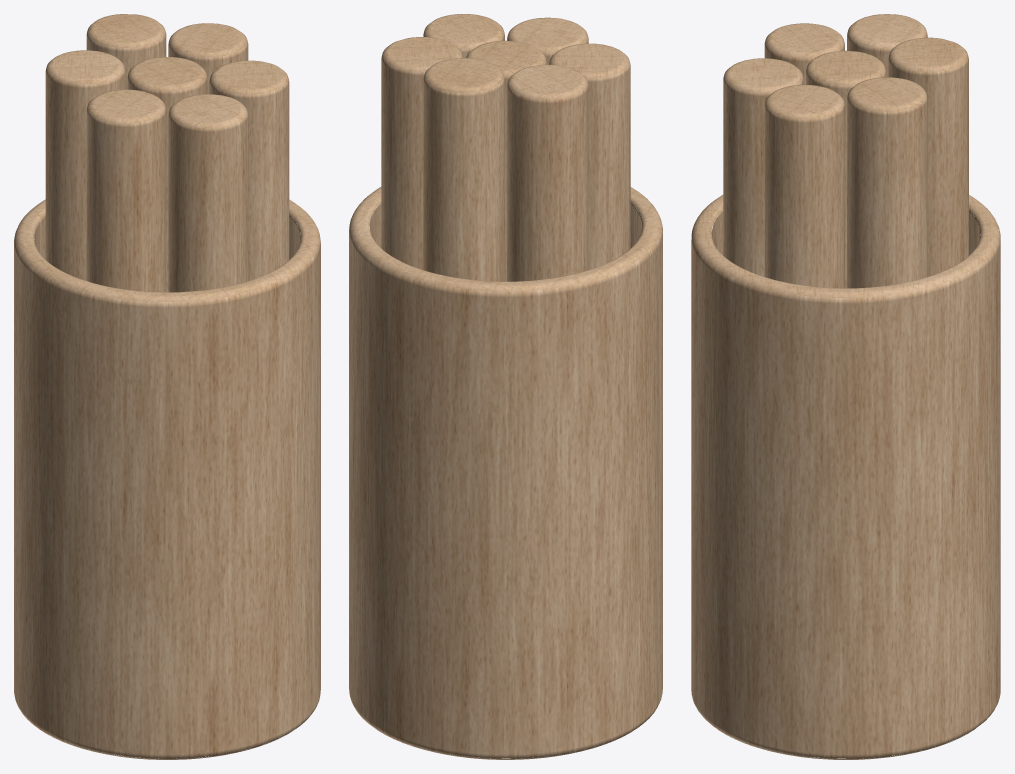
File: king-white.glb
3 renders of one model, left to right at view 1: azimuth 30°, elevation 25°; view 2: azimuth 150°, elevation 25°; view 3: azimuth 270°, elevation 25°, orthographic. The views are drawn at different scales.
Parts seen in each view (by area): view 1: Cylindra_Král_bílý; view 2: Cylindra_Král_bílý; view 3: Cylindra_Král_bílý.
Boxes of the visible parts, box(x1,y1,x2,y2) form: Cylindra_Král_bílý: box(14, 14, 320, 759); Cylindra_Král_bílý: box(349, 14, 662, 759); Cylindra_Král_bílý: box(691, 14, 1000, 759).
Bounding box in the file's own units: 0.5343 × 1.23 × 0.5346.
Materials: 2 (2 with a texture image).
